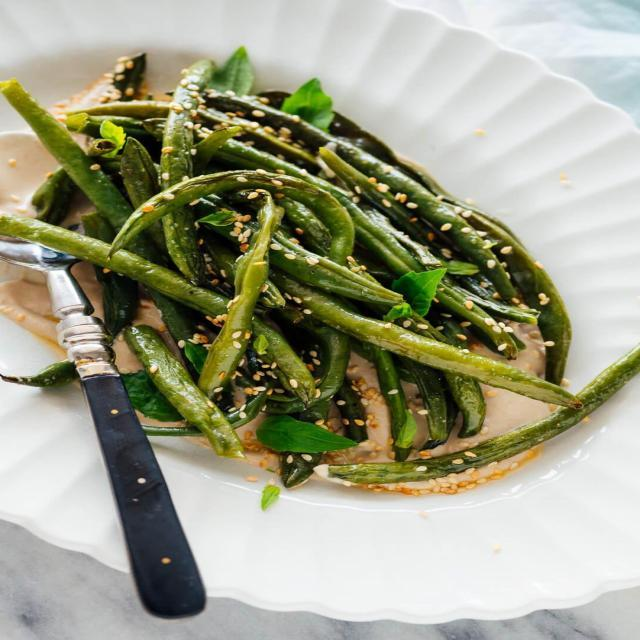Beans: (0, 44, 631, 487)
